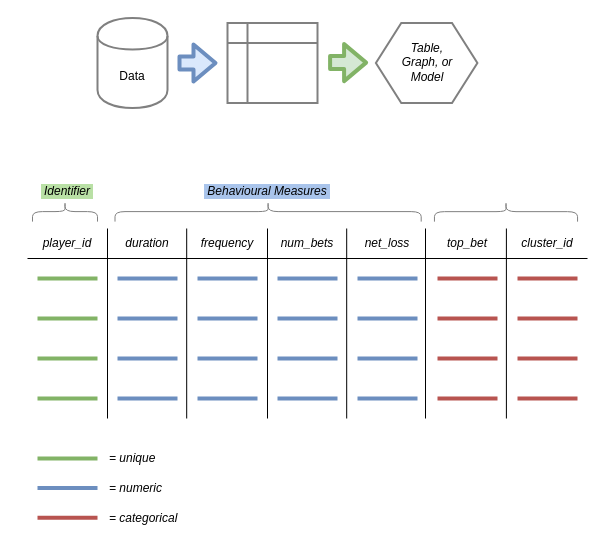
Some shapes in this 606 by 556 pixel diagram are drawn without their labels. The shapes that lost their labels are listed below. From the top down, each one's centre as x and y in pixels, then its label:
At point 272,63: "Measures Table".
At point 506,211: "Labels".
